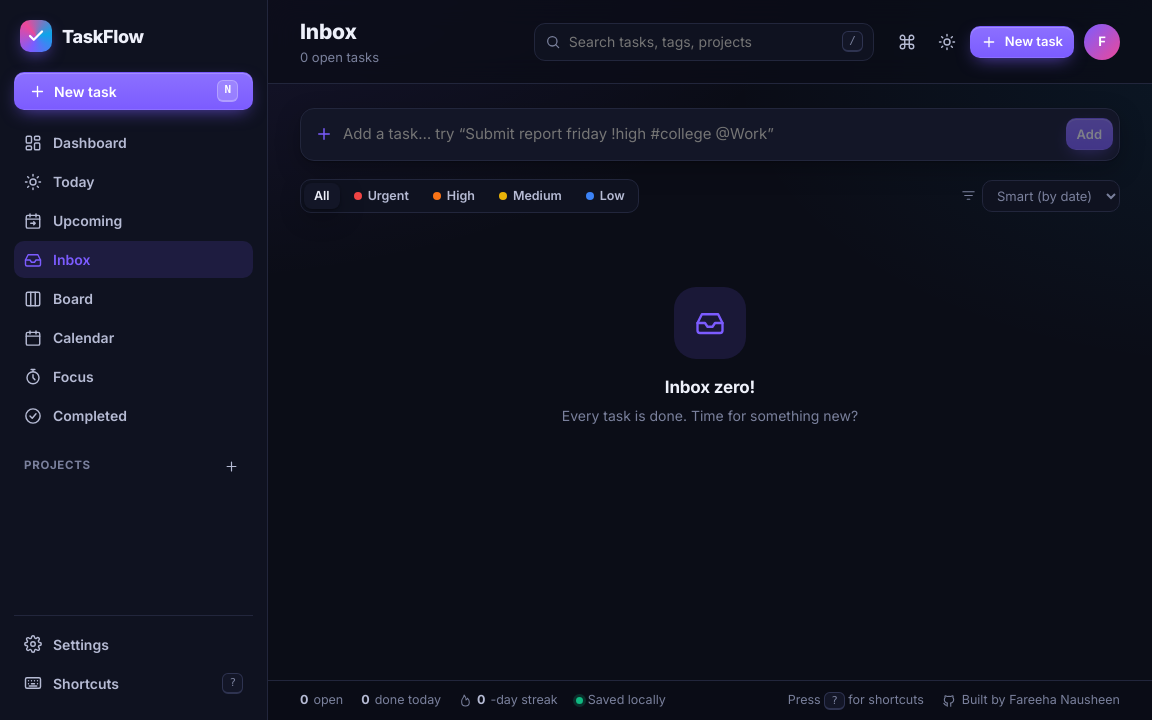
Test: TaskFlow › adds a task with smart quick-add parsing
The image size is (1152, 720).
Step 1. Type "Revise DBMS tomorrow !high #exam @College" into the field named "New task" → [699, 134], box [343,115,1056,154]
Then press Enter
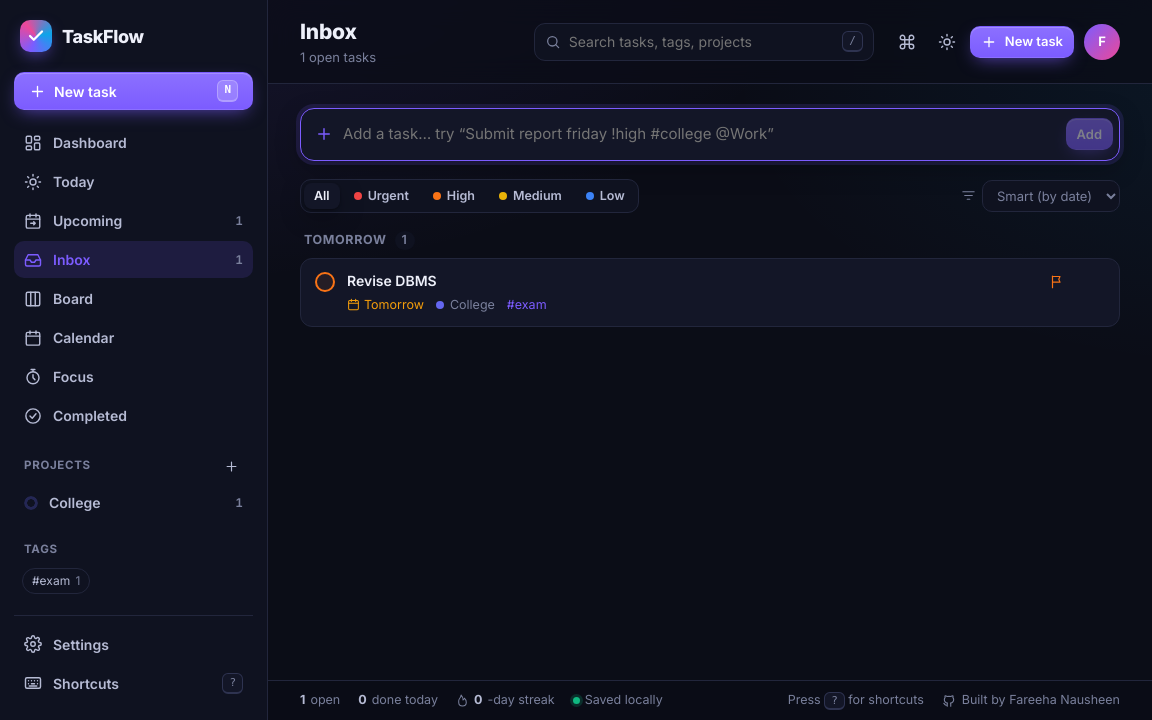
Check: the text "Tomorrow" is shown, box [347,296,424,314]
Check: the button "#exam" is shown, box [507,296,547,314]
Check: the button "College" is shown, box [436,296,495,314]
